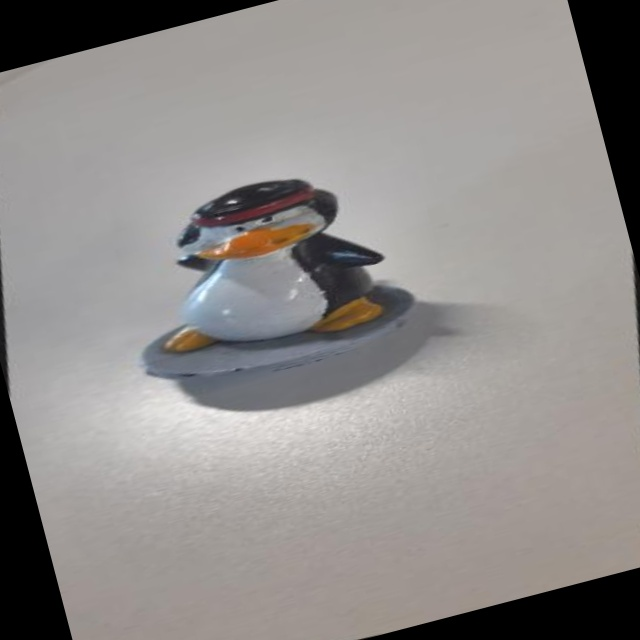Penguin: (78, 125, 489, 418)
